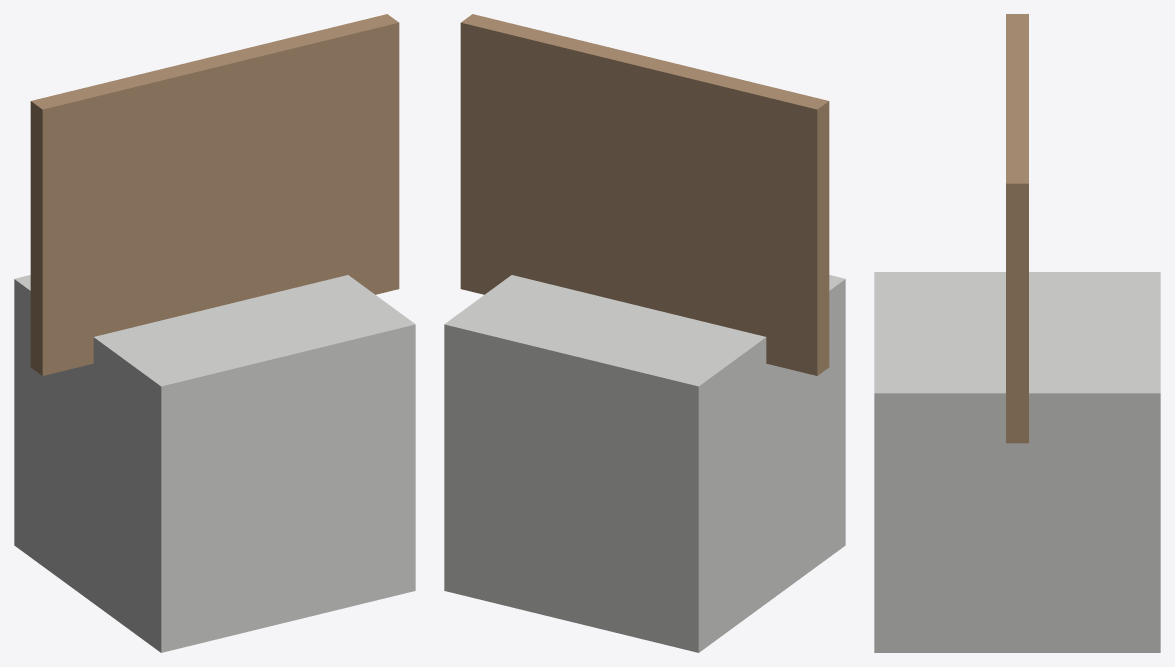
Rendered from gallery_plinth_frame.glb.
The picture shows the model from 3 angles, left to right: view 1: azimuth 30°, elevation 25°; view 2: azimuth 150°, elevation 25°; view 3: azimuth 270°, elevation 25°; orthographic projection. The views are drawn at different scales.
Visible parts, largest first — view 1: plinth, frame; view 2: plinth, frame; view 3: plinth, frame.
Boxes of the visible parts, <box> form: plinth: <box>14,275,415,652</box>; frame: <box>30,14,399,375</box>; plinth: <box>444,275,845,652</box>; frame: <box>460,14,829,375</box>; plinth: <box>874,272,1160,652</box>; frame: <box>1006,14,1028,443</box>.
Bounding box in the file's own units: 1.4 × 1.9 × 1.
